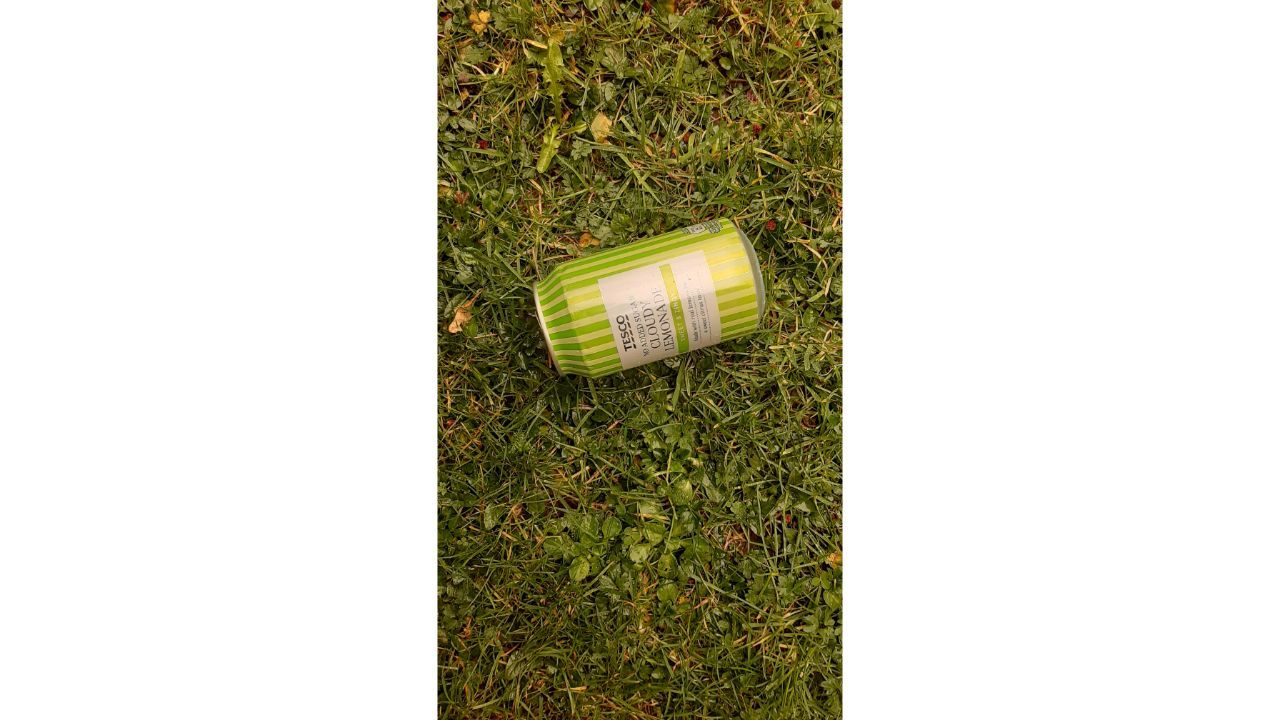Can: (519, 202, 784, 394)
